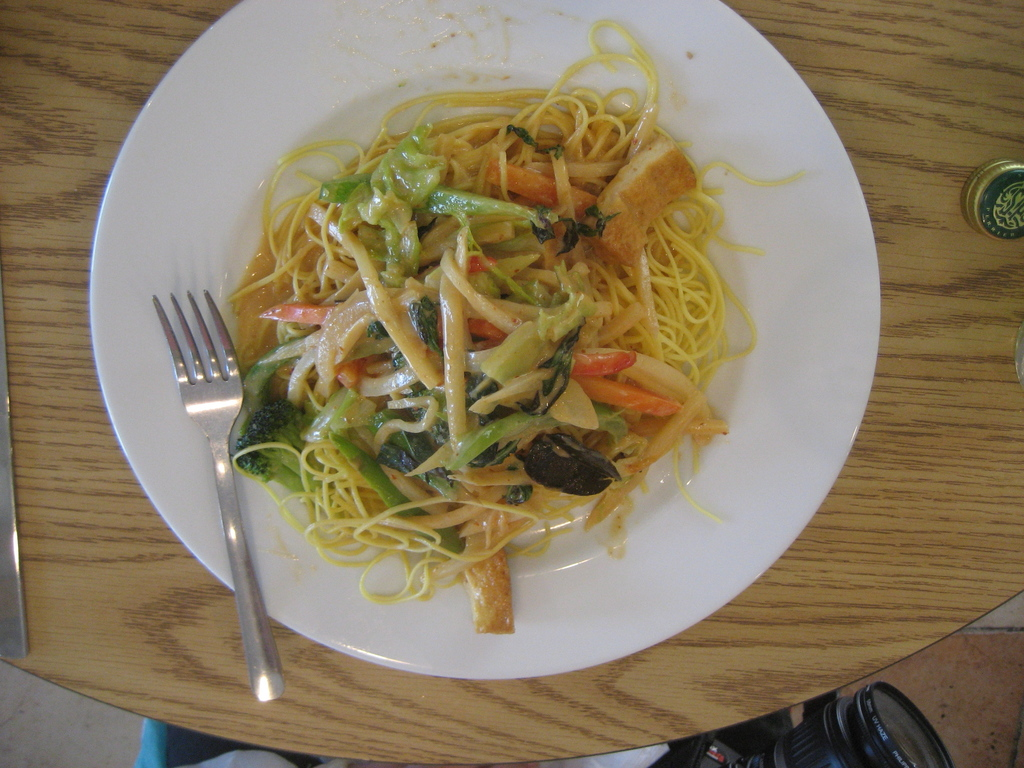pasta: (227, 79, 729, 604)
